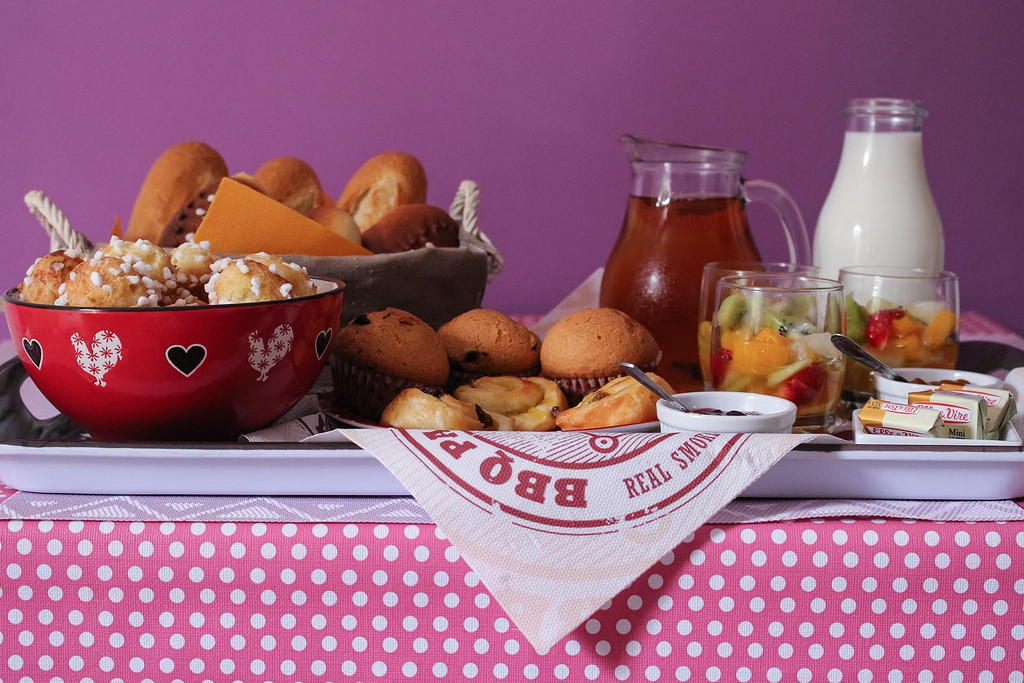glass of milk: (827, 105, 955, 266)
